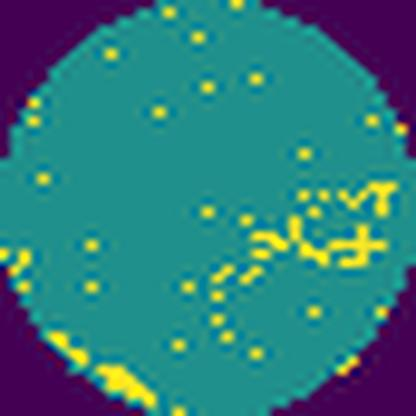Edge-Loc: (30, 329, 194, 415)
